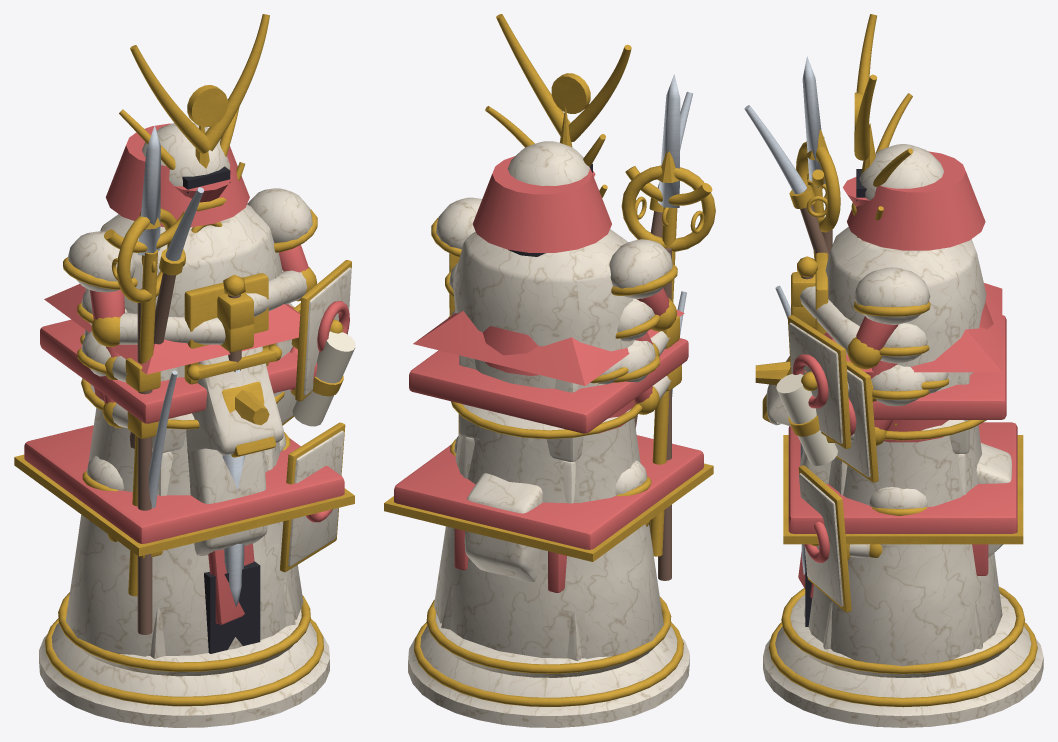
File: samurai_white.glb
3 renders of one model, left to right at view 1: azimuth 30°, elevation 25°; view 2: azimuth 150°, elevation 25°; view 3: azimuth 270°, elevation 25°, orthographic. The views are drawn at different scales.
Parts seen in each view (by area): view 1: Mesh_Body_k, Plinth_k, Mesh_Body_r, Mesh_Head_k, Mesh_WeaponArm_r, Mesh_Body_n, Mesh_WeaponArm_k, Mesh_WeaponArm_b, Mesh_WeaponArm_q, Mesh_ShieldArm_k, Mesh_ShieldArm_p, Mesh_ShieldArm_q (+7 smaller); view 2: Mesh_Body_k, Plinth_k, Mesh_Body_r, Mesh_WeaponArm_r, Mesh_Head_k, Mesh_WeaponArm_b, Mesh_WeaponArm_q, Mesh_Body_n, Mesh_WeaponArm_k, Mesh_Head_p, Mesh_ShieldArm_k, Mesh_WeaponArm_n (+3 smaller); view 3: Mesh_Body_k, Plinth_k, Mesh_Body_r, Mesh_Head_k, Mesh_WeaponArm_r, Mesh_ShieldArm_k, Mesh_ShieldArm_q, Mesh_ShieldArm_p, Mesh_ShieldArm_b, Mesh_ShieldArm_n, Mesh_Body_n, Mesh_WeaponArm_b (+5 smaller).
Boxes of the visible parts, left/top/right/bottom form: Mesh_Body_k: left=65, top=205, right=303, bottom=656; Plinth_k: left=39, top=592, right=329, bottom=727; Mesh_Body_r: left=14, top=425, right=354, bottom=658; Mesh_Head_k: left=105, top=14, right=269, bottom=227; Mesh_WeaponArm_r: left=40, top=284, right=317, bottom=452; Mesh_Body_n: left=186, top=346, right=283, bottom=555; Mesh_WeaponArm_k: left=63, top=231, right=281, bottom=606; Mesh_WeaponArm_b: left=77, top=208, right=185, bottom=634; Mesh_WeaponArm_q: left=77, top=125, right=193, bottom=596; Mesh_ShieldArm_k: left=217, top=188, right=317, bottom=329; Mesh_ShieldArm_p: left=279, top=422, right=345, bottom=572; Mesh_ShieldArm_q: left=282, top=260, right=351, bottom=401; Mesh_Body_k: left=434, top=229, right=663, bottom=658; Plinth_k: left=408, top=596, right=689, bottom=727; Mesh_Body_r: left=384, top=435, right=713, bottom=661; Mesh_WeaponArm_r: left=409, top=310, right=688, bottom=462; Mesh_Head_k: left=472, top=14, right=631, bottom=252; Mesh_WeaponArm_b: left=613, top=151, right=715, bottom=580; Mesh_WeaponArm_q: left=615, top=74, right=712, bottom=556; Mesh_Body_n: left=454, top=473, right=566, bottom=592; Mesh_WeaponArm_k: left=609, top=239, right=677, bottom=331; Mesh_Head_p: left=451, top=401, right=642, bottom=438; Mesh_ShieldArm_k: left=431, top=197, right=482, bottom=257; Mesh_WeaponArm_n: left=590, top=92, right=692, bottom=428; Mesh_Body_k: left=804, top=226, right=1002, bottom=666; Plinth_k: left=763, top=586, right=1043, bottom=727; Mesh_Body_r: left=783, top=422, right=1023, bottom=649; Mesh_Head_k: left=843, top=14, right=985, bottom=250; Mesh_WeaponArm_r: left=755, top=283, right=1006, bottom=453; Mesh_ShieldArm_k: left=791, top=267, right=930, bottom=369; Mesh_ShieldArm_q: left=787, top=315, right=929, bottom=448; Mesh_ShieldArm_p: left=798, top=465, right=927, bottom=612; Mesh_ShieldArm_b: left=776, top=364, right=929, bottom=465; Mesh_ShieldArm_n: left=835, top=361, right=949, bottom=482; Mesh_Body_n: left=762, top=356, right=1011, bottom=575; Mesh_WeaponArm_b: left=796, top=129, right=840, bottom=252.
Bounding box in the file's own units: 0.7865 × 1.86 × 0.8101.
7 materials, 3 textured.
